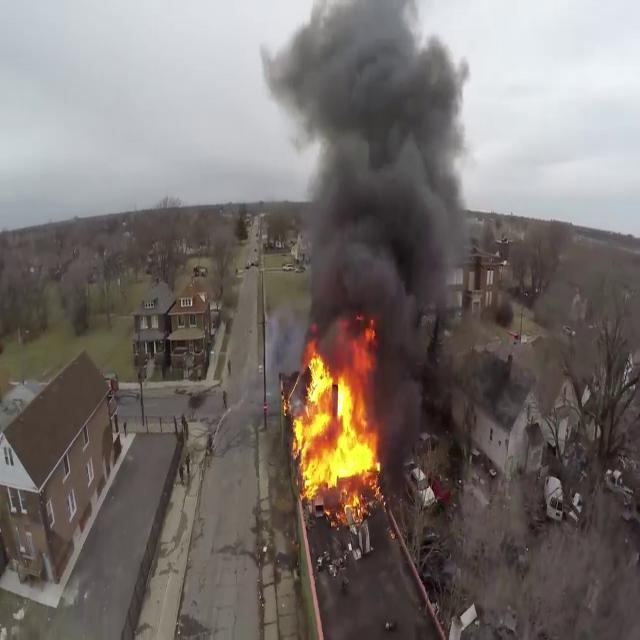Fire: (284, 340, 384, 510)
Smoke: (263, 0, 480, 365)
